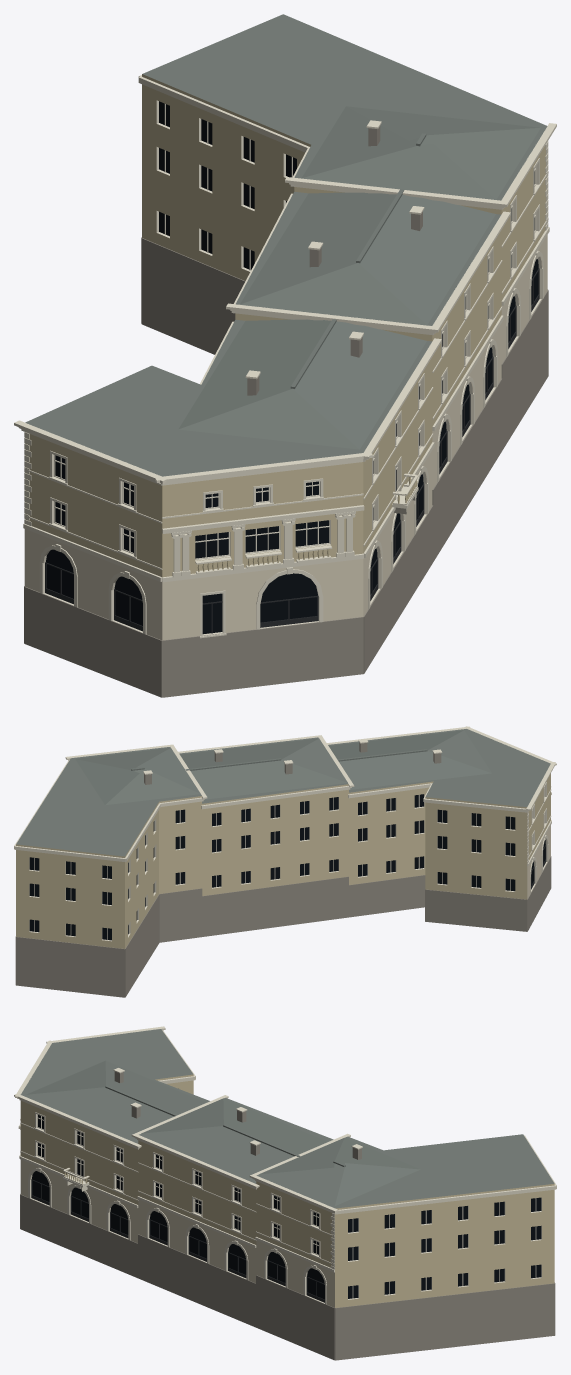
File: bmorskaya33.glb
3 renders of one model, top to bottom at view 1: azimuth 30°, elevation 25°; view 2: azimuth 150°, elevation 25°; view 3: azimuth 270°, elevation 25°, orthographic. The views are drawn at different scales.
Parts seen in each view (by area): view 1: bmorskaya33_roof, bmorskaya33_wall, bmorskaya33_stone, bmorskaya33_trim, bmorskaya33_wall2, bmorskaya33_glass, bmorskaya33_metal; view 2: bmorskaya33_wall, bmorskaya33_roof, bmorskaya33_stone, bmorskaya33_trim, bmorskaya33_glass, bmorskaya33_wall2; view 3: bmorskaya33_roof, bmorskaya33_wall, bmorskaya33_stone, bmorskaya33_trim, bmorskaya33_glass, bmorskaya33_wall2, bmorskaya33_metal.
Part boxes in pixels (bbox=[...]): bmorskaya33_roof: bbox=[25, 14, 547, 476]; bmorskaya33_wall: bbox=[24, 74, 546, 577]; bmorskaya33_stone: bbox=[24, 126, 548, 697]; bmorskaya33_trim: bbox=[14, 75, 556, 638]; bmorskaya33_wall2: bbox=[24, 235, 547, 640]; bmorskaya33_glass: bbox=[46, 101, 538, 634]; bmorskaya33_metal: bbox=[45, 268, 539, 633]; bmorskaya33_wall: bbox=[16, 773, 550, 948]; bmorskaya33_roof: bbox=[16, 729, 550, 856]; bmorskaya33_stone: bbox=[15, 742, 551, 997]; bmorskaya33_trim: bbox=[14, 726, 556, 941]; bmorskaya33_glass: bbox=[29, 794, 545, 940]; bmorskaya33_wall2: bbox=[527, 825, 550, 898]; bmorskaya33_roof: bbox=[20, 1029, 554, 1208]; bmorskaya33_wall: bbox=[20, 1074, 554, 1307]; bmorskaya33_stone: bbox=[20, 1071, 555, 1360]; bmorskaya33_trim: bbox=[14, 1026, 556, 1304]; bmorskaya33_glass: bbox=[32, 1115, 541, 1299]; bmorskaya33_wall2: bbox=[20, 1159, 334, 1307]; bmorskaya33_metal: bbox=[31, 1179, 324, 1302].
Bounding box in the file's own units: 51.52 × 19.92 × 58.35.
